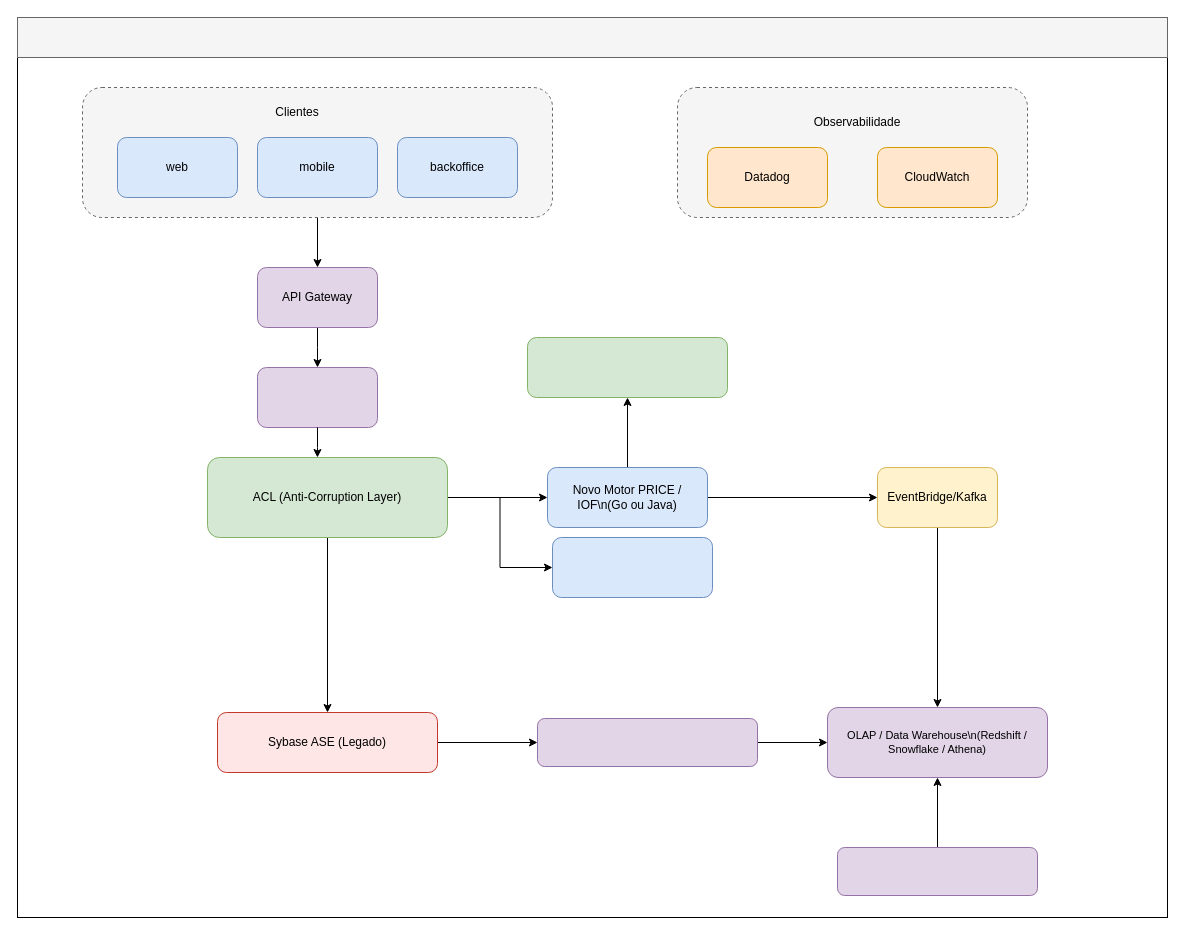
The diagram is 1185 pixels wide and 935 high, and some of its shapes have lost their labels. The box of each missing label's shape, as (x1, y1, x2, y2) in pixels:
BFF: (256, 366, 378, 428)
DESENHO DE SOLUÇÃO: (16, 16, 1168, 58)
ETL / Replicação\n(Glue + DMS): (836, 846, 1038, 896)
Feature Toggle / Shadow Mode: (552, 536, 712, 598)
Read-Replica (Só leitura): (536, 718, 758, 766)
Redis / ElastiCache (Cache): (526, 336, 728, 398)
